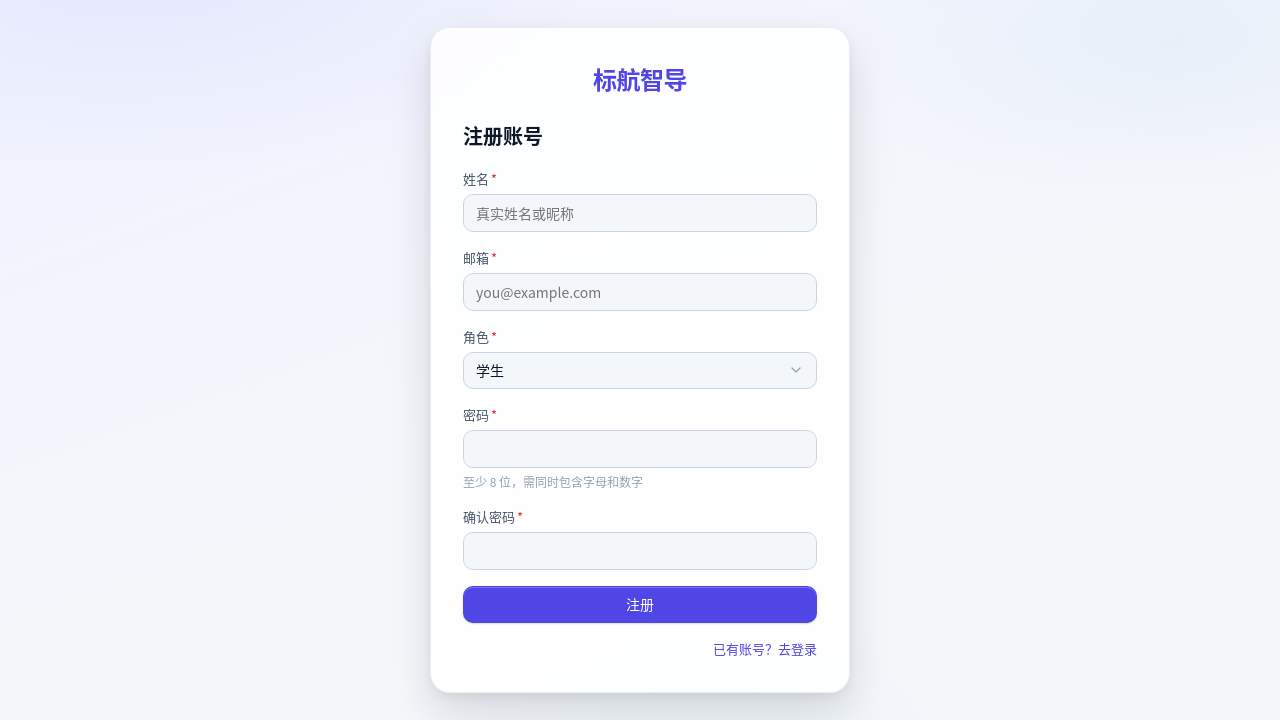
Test: RegisterPage › 教师自助注册不显示邀请码，并且请求不携带已废弃字段
Expected: the heading "注册账号" is shown, [463,121,543,150]
Click the dropdown named "角色". click: (490, 370)
box: [463,352,817,389]
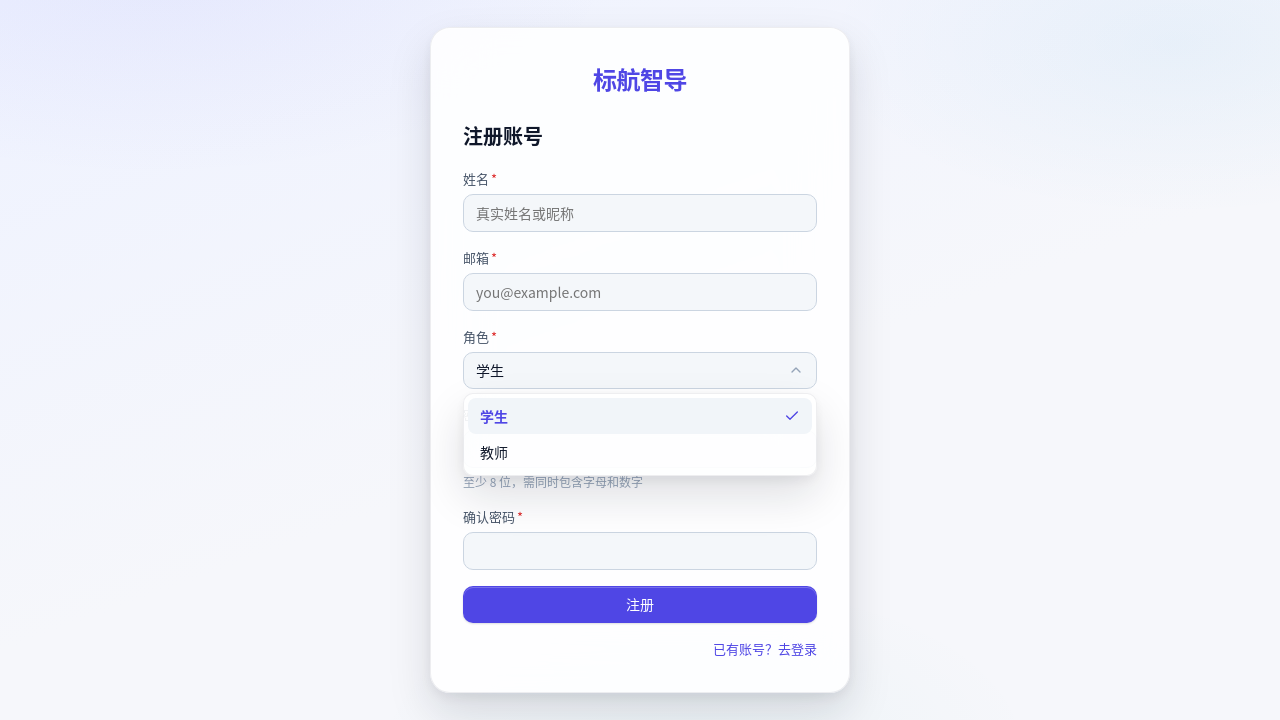
Click the option "教师". click: (494, 452)
box: [468,434,812,471]
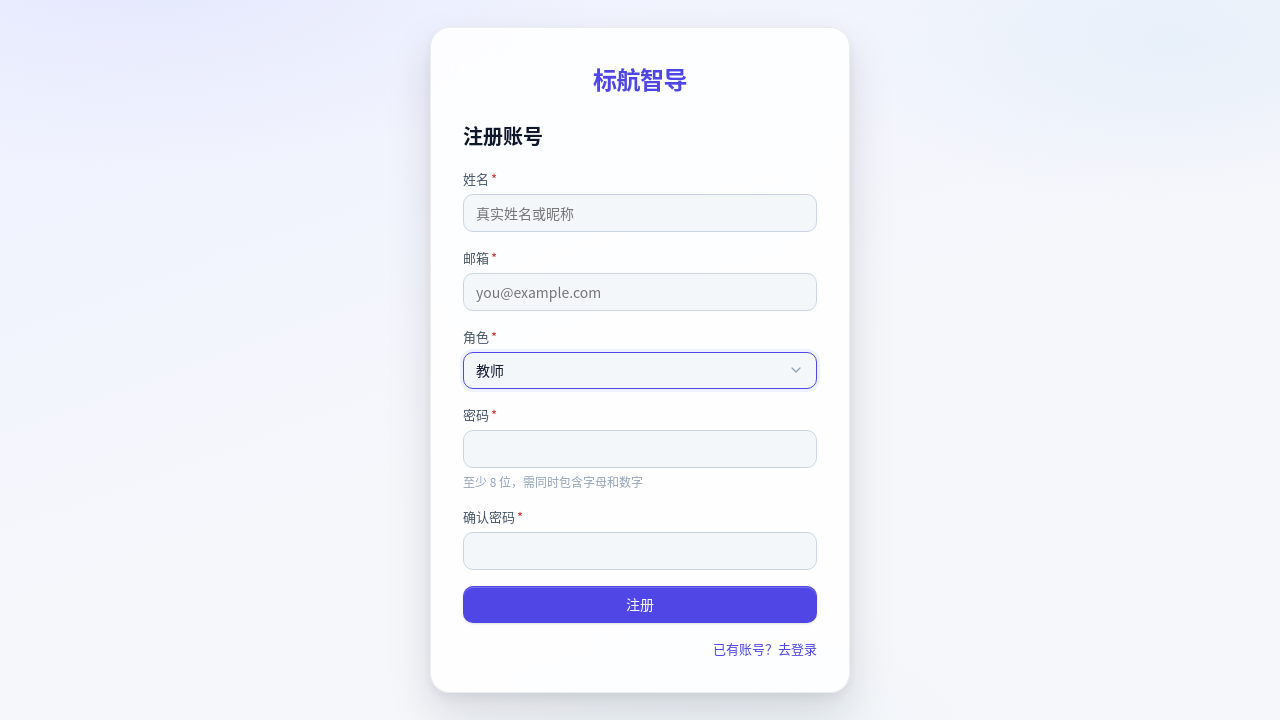
Type "王老师" into the field with placeholder "真实姓名或昵称". click: (640, 213)
box: [463,194,817,232]
Type "teacher@example.com" into the field with placeholder "you@example.com". click: (640, 292)
box: [463,273,817,311]
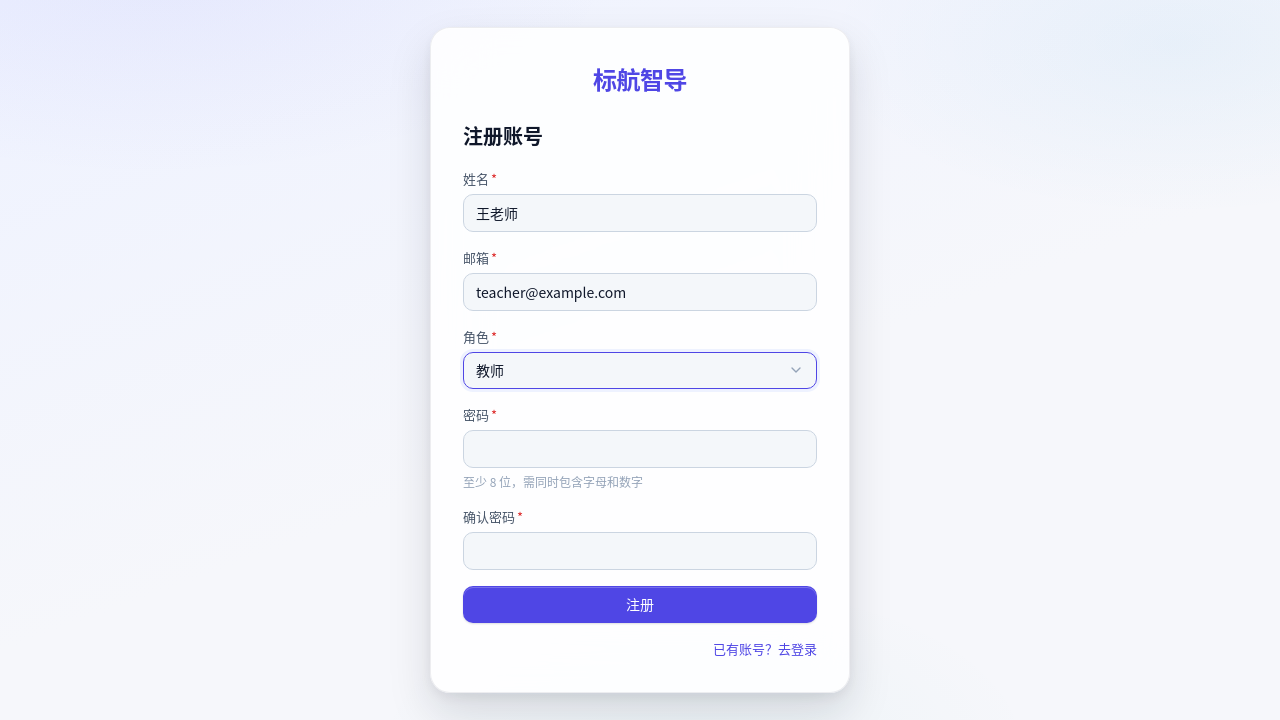
Type "Passw0rd1" into the password field labelled "密码*". click: (640, 449)
box: [463,430,817,468]
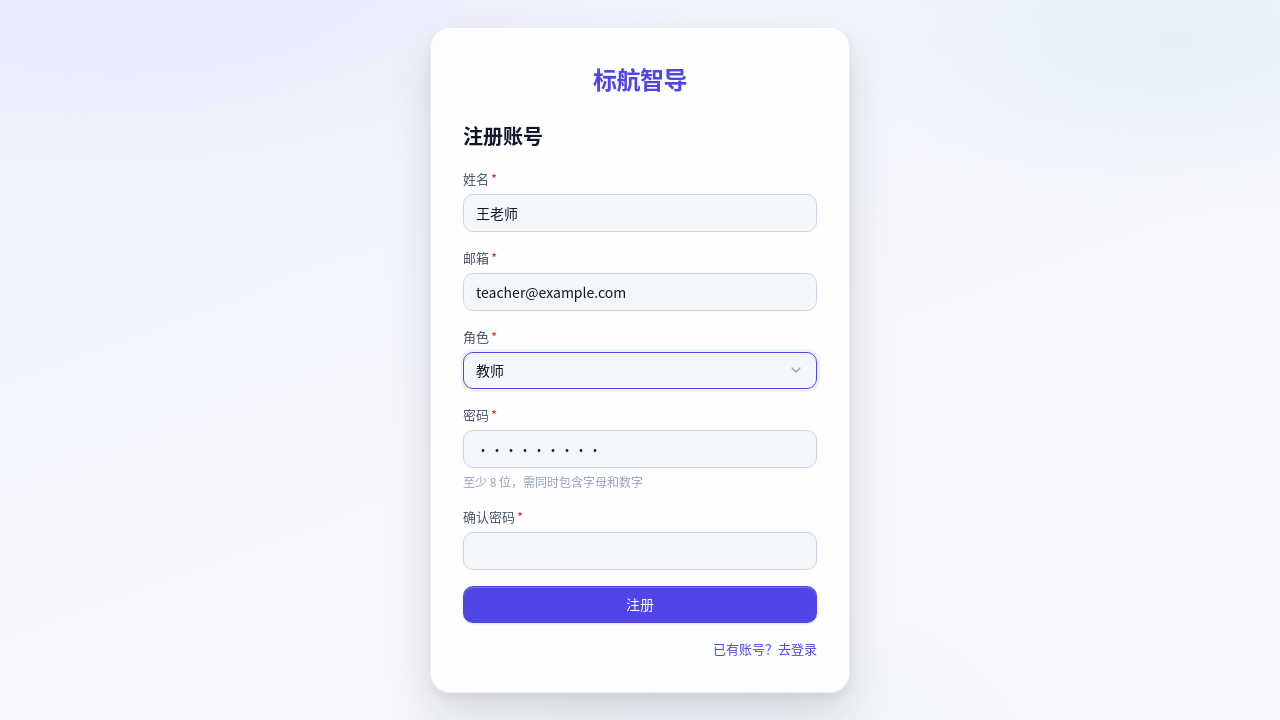
Type "Passw0rd1" into the password field labelled "确认密码*". click: (640, 551)
box: [463,532,817,570]
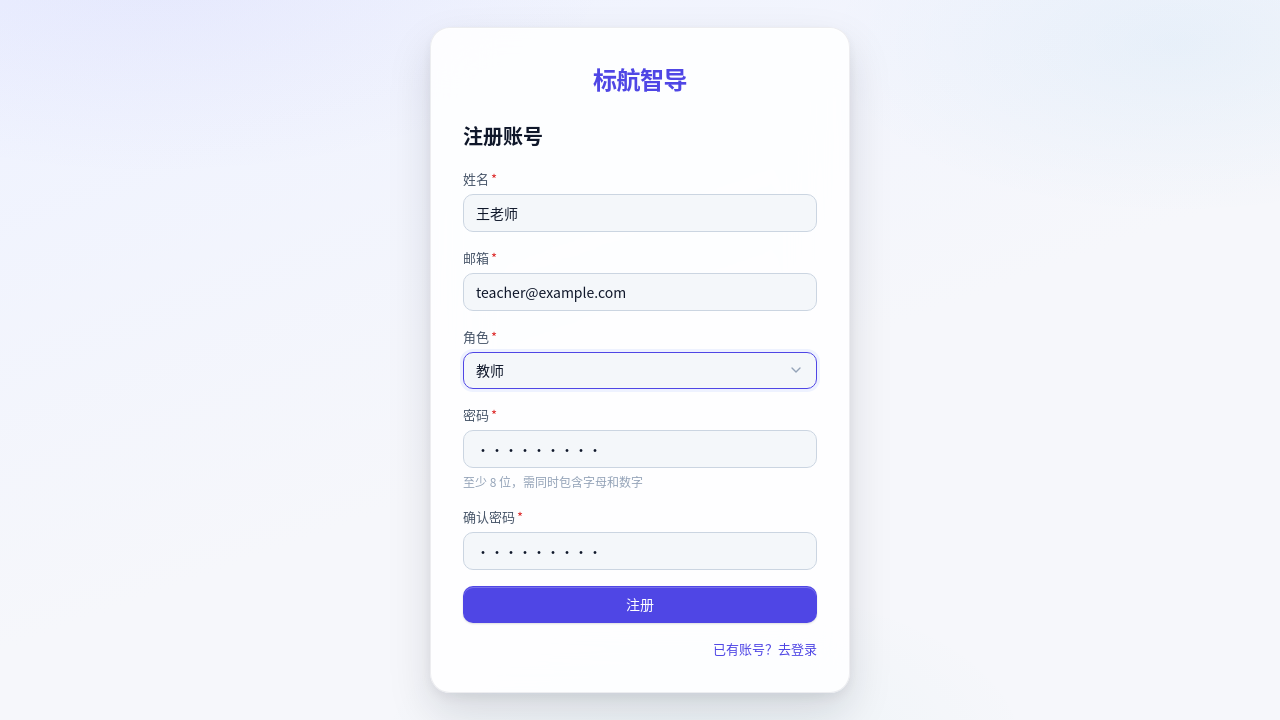
Click the button "注册". click: (640, 605)
box: [463,586,817,624]
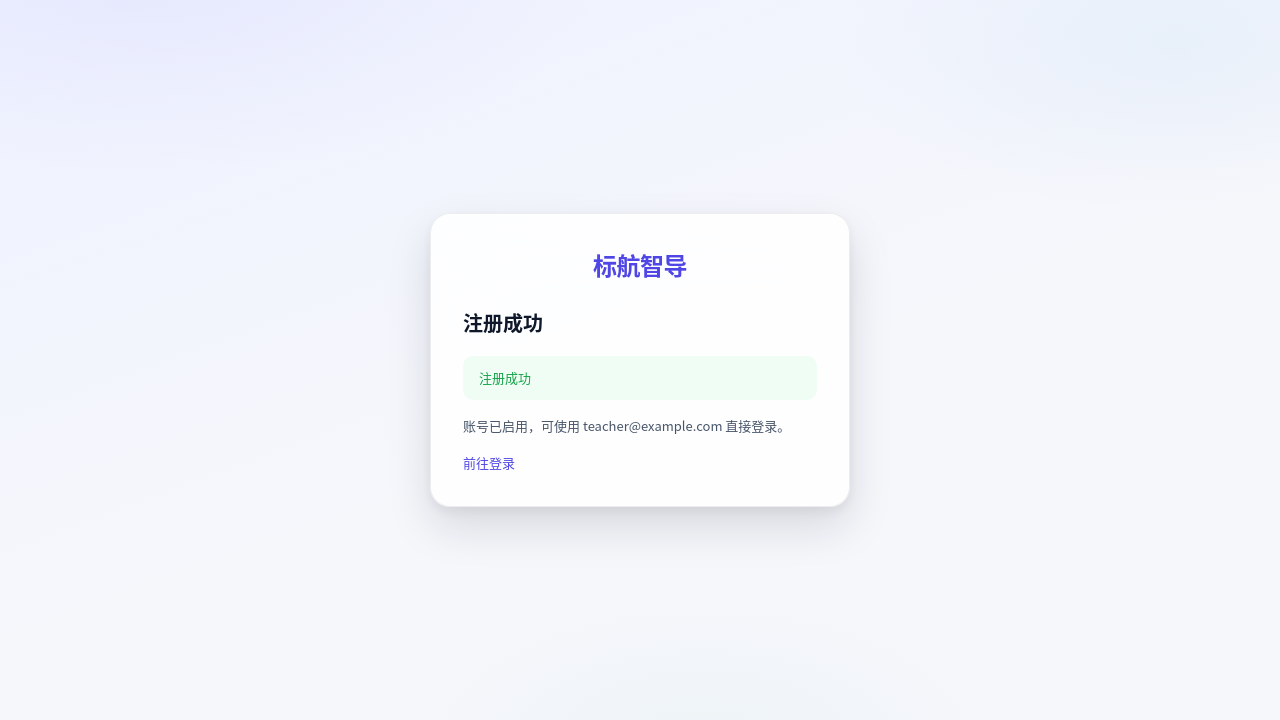
Expected: the heading "注册成功" is shown, [463,308,543,336]
Expected: the text "账号已启用，可使用 teacher@example.com 直接登录。" is shown, [463,416,817,437]
